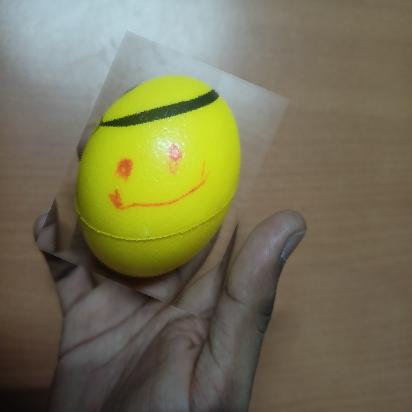Yellowball: (53, 42, 271, 304)
